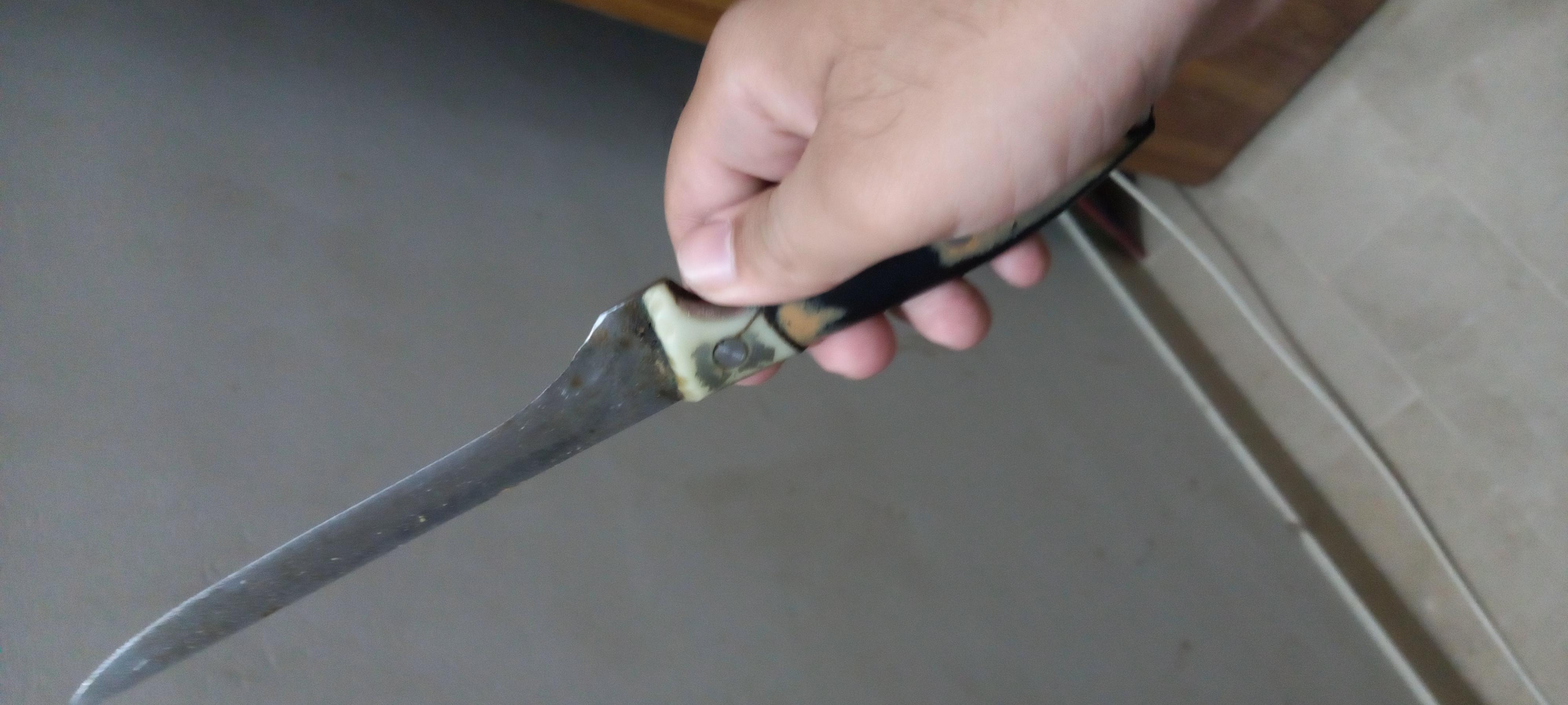knives: (1, 0, 1215, 504)
